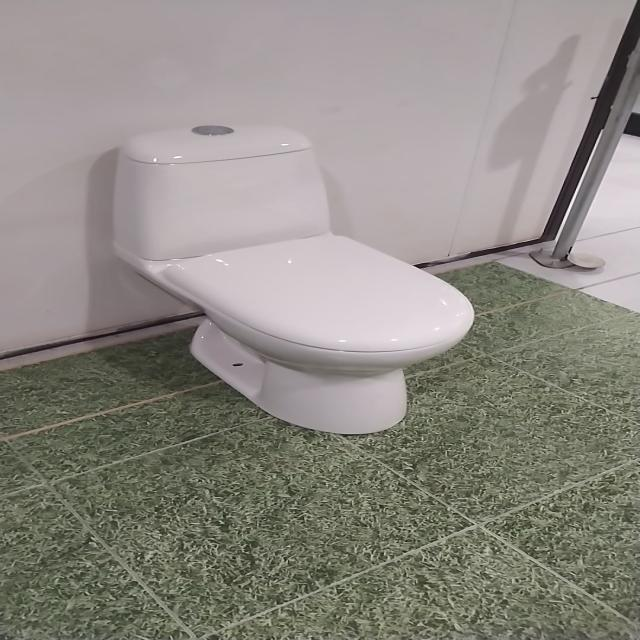toilet: (110, 124, 475, 436)
